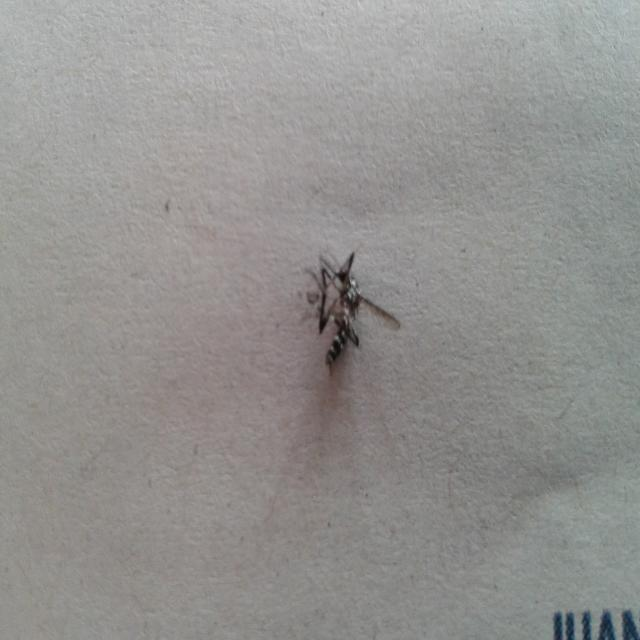albopictus: (302, 240, 402, 375)
